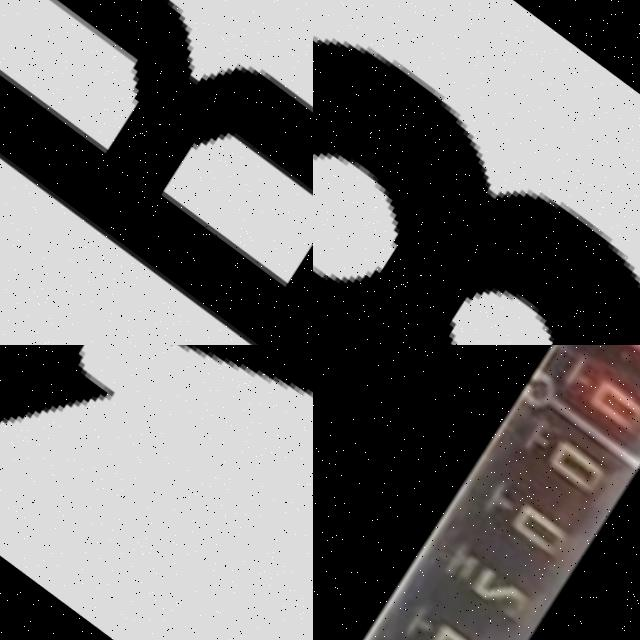0: (530, 428, 603, 497), (494, 492, 567, 560), (575, 367, 640, 435), (413, 618, 483, 640)
2: (460, 557, 529, 621)
8: (313, 0, 640, 345)
J: (0, 345, 313, 640)
